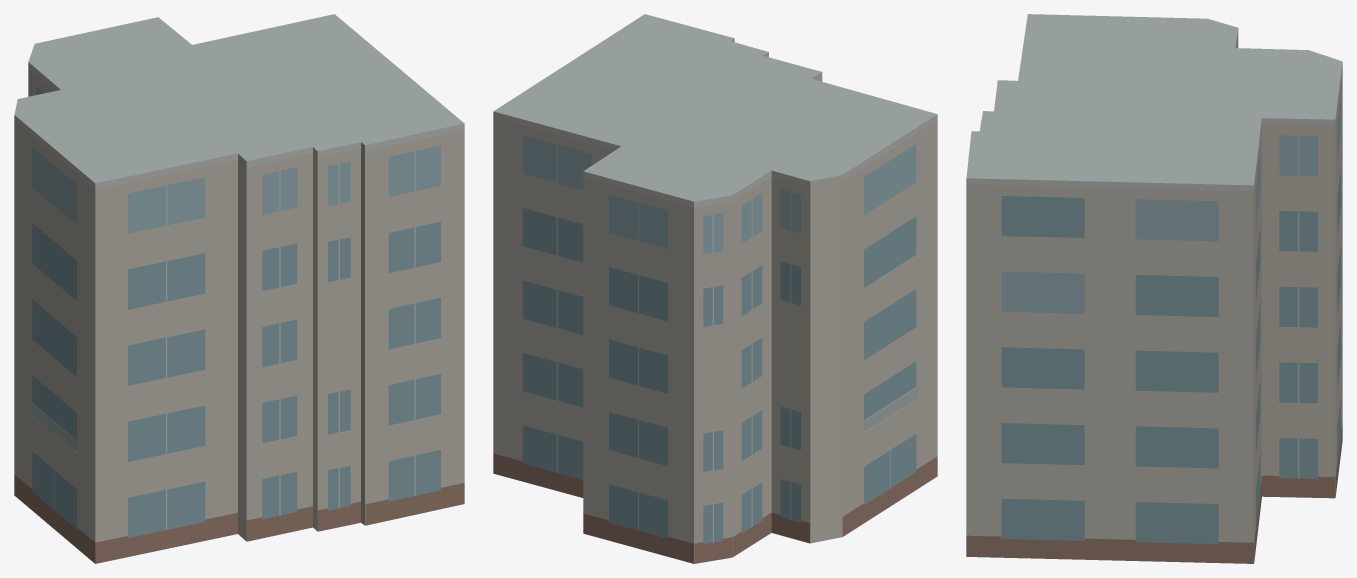
The model's file is survey-upis-32869595.glb.
3 renders of one model, left to right at view 1: azimuth 30°, elevation 25°; view 2: azimuth 150°, elevation 25°; view 3: azimuth 270°, elevation 25°, orthographic. The views are drawn at different scales.
Visible parts, largest first — view 1: survey-upis-32869595.tmp; view 2: survey-upis-32869595.tmp; view 3: survey-upis-32869595.tmp.
Boxes of the visible parts, left/top/right/bottom form: survey-upis-32869595.tmp: left=14, top=14, right=464, bottom=563; survey-upis-32869595.tmp: left=493, top=14, right=937, bottom=563; survey-upis-32869595.tmp: left=966, top=14, right=1342, bottom=563.
Bounding box in the file's own units: 14.28 × 14.7 × 13.25.
